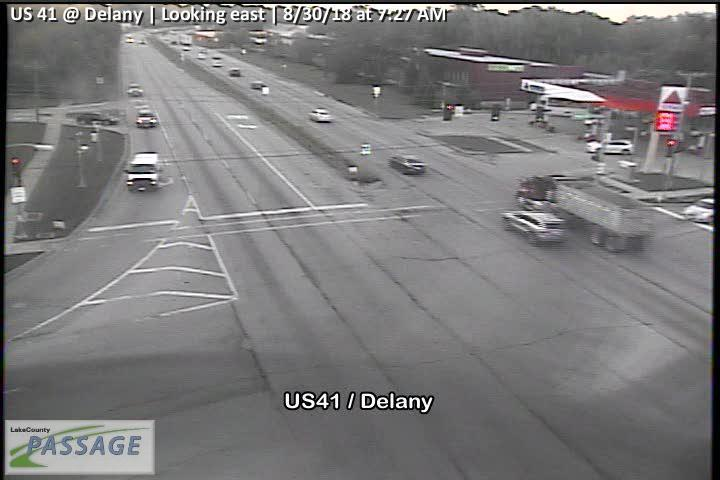SUV: (500, 208, 563, 245), (585, 138, 634, 157)
Sedan: (386, 153, 426, 175), (308, 107, 334, 122)
Truck: (517, 172, 653, 251), (123, 151, 160, 194)
